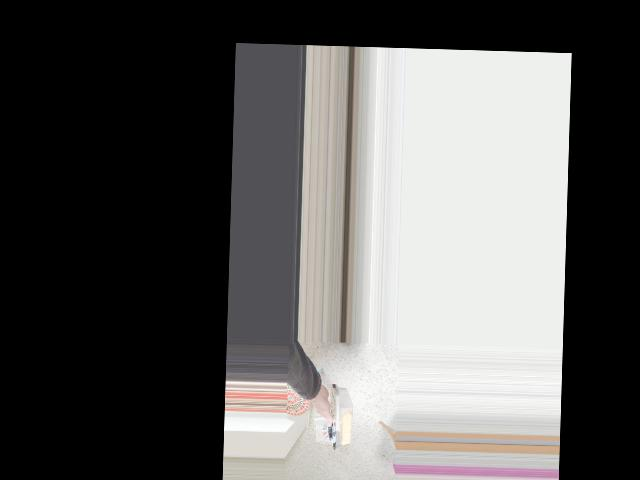cheese: (291, 379, 358, 449)
